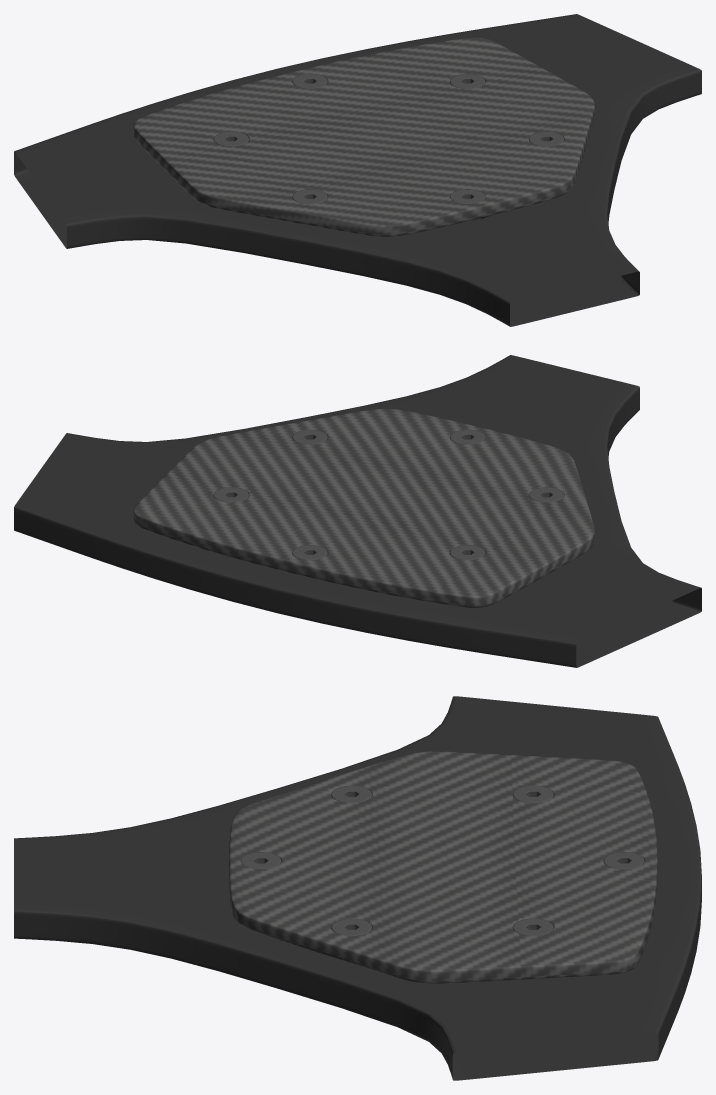
File: centerPlate.glb
3 renders of one model, top to bottom at view 1: azimuth 30°, elevation 25°; view 2: azimuth 150°, elevation 25°; view 3: azimuth 270°, elevation 25°, orthographic. The views are drawn at different scales.
Visible parts, largest first — view 1: Plane, Plane.001, Circle.002; view 2: Plane, Plane.001, Circle.002; view 3: Plane, Plane.001, Circle.002.
Boxes of the visible parts, left/top/right/bottom form: Plane: left=14, top=14, right=701, bottom=326; Plane.001: left=133, top=37, right=594, bottom=236; Circle.002: left=213, top=73, right=564, bottom=220; Plane: left=14, top=355, right=701, bottom=667; Plane.001: left=133, top=408, right=594, bottom=607; Circle.002: left=213, top=429, right=564, bottom=560; Plane: left=14, top=696, right=701, bottom=1080; Plane.001: left=229, top=751, right=657, bottom=983; Circle.002: left=240, top=785, right=644, bottom=935.
Bounding box in the file's own units: 152 × 8.39 × 124.
Materials: 3 (1 with a texture image).
